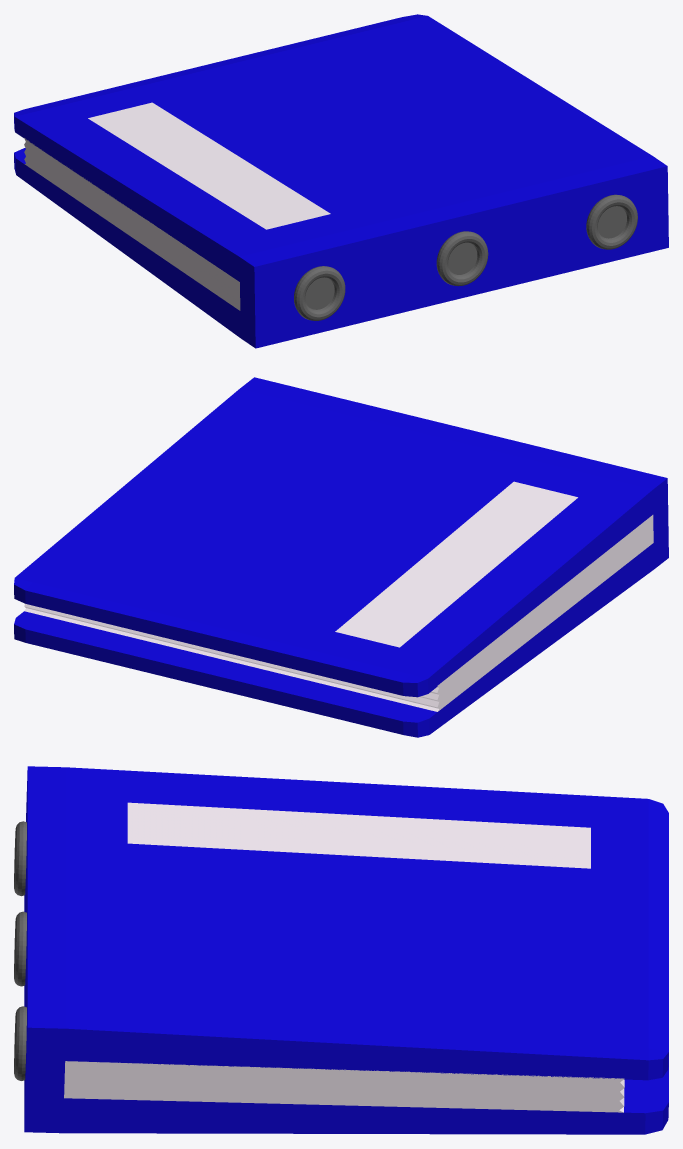
File: Carpeta.fbx
The picture shows the model from 3 angles, top to bottom: view 1: azimuth 30°, elevation 25°; view 2: azimuth 150°, elevation 25°; view 3: azimuth 270°, elevation 25°; orthographic projection. The views are drawn at different scales.
Parts seen in each view (by area): view 1: Cube; view 2: Cube; view 3: Cube.
Part boxes in pixels (x1,y1,x2,y2): Cube: [14, 14, 668, 348]; Cube: [14, 377, 668, 737]; Cube: [14, 766, 668, 1134].
Bounding box in the file's own units: 2584 × 493 × 2736.
